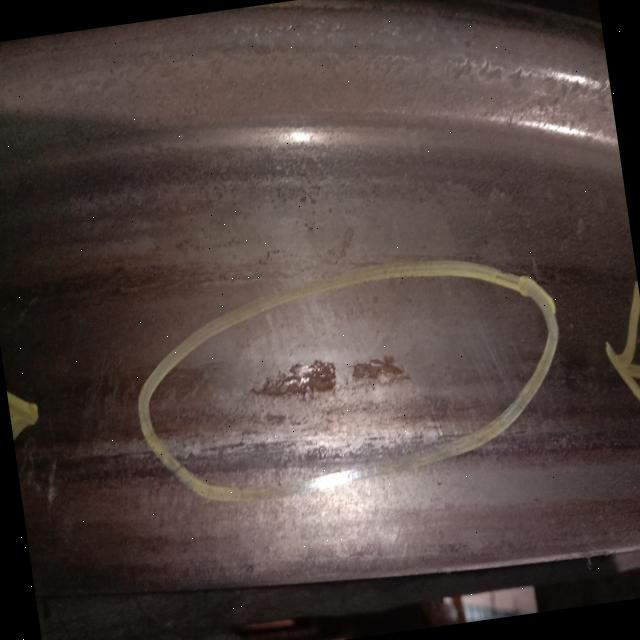Peeling: (230, 326, 430, 423)
